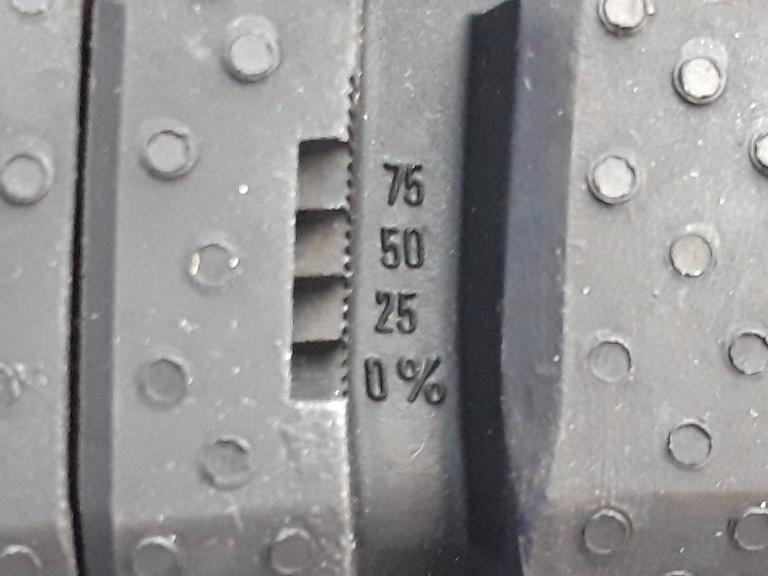temoin:100: (283, 70, 361, 415)
